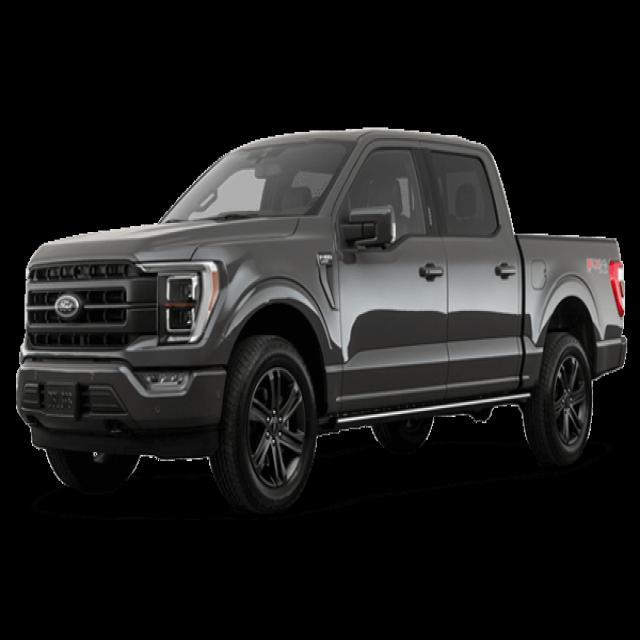person: (15, 122, 628, 514)
